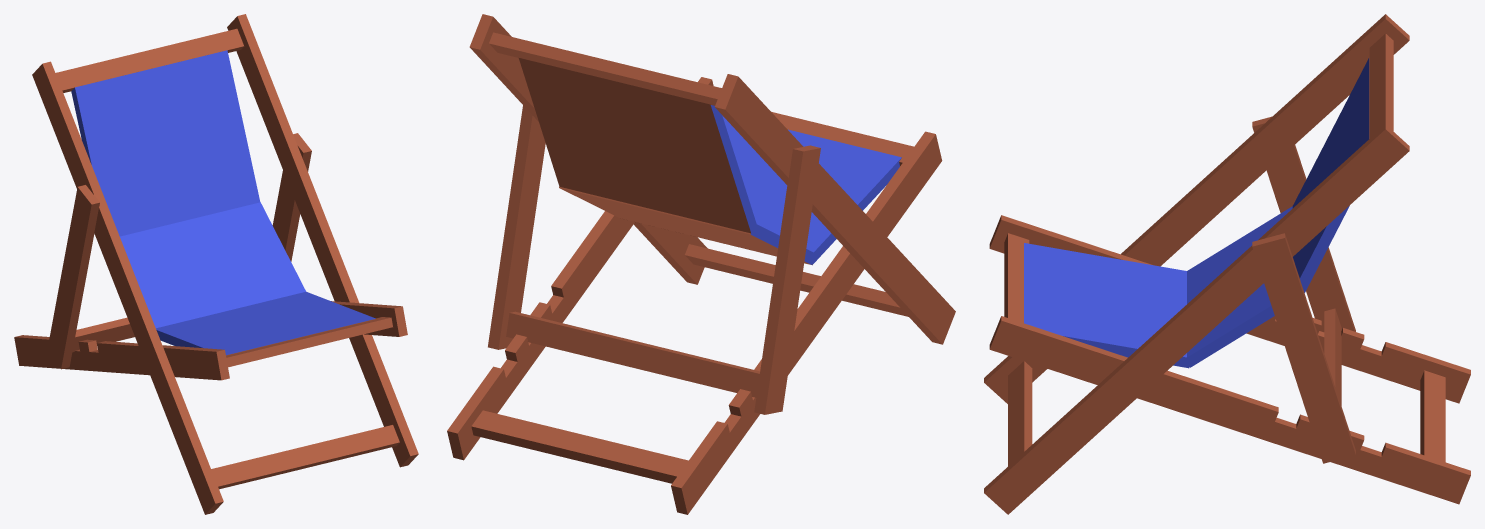
File: styl.fbx
The picture shows the model from 3 angles, left to right: view 1: azimuth 30°, elevation 25°; view 2: azimuth 150°, elevation 25°; view 3: azimuth 270°, elevation 25°; orthographic projection. The views are drawn at different scales.
Visible parts, largest first — view 1: Chaise longe; view 2: Chaise longe; view 3: Chaise longe.
Part boxes in pixels (x1=…): Chaise longe: x1=14, y1=14, x2=418, y2=514; Chaise longe: x1=447, y1=14, x2=955, y2=514; Chaise longe: x1=984, y1=14, x2=1470, y2=514.
Size of the model in its own units: 98.91 by 143 by 163.
